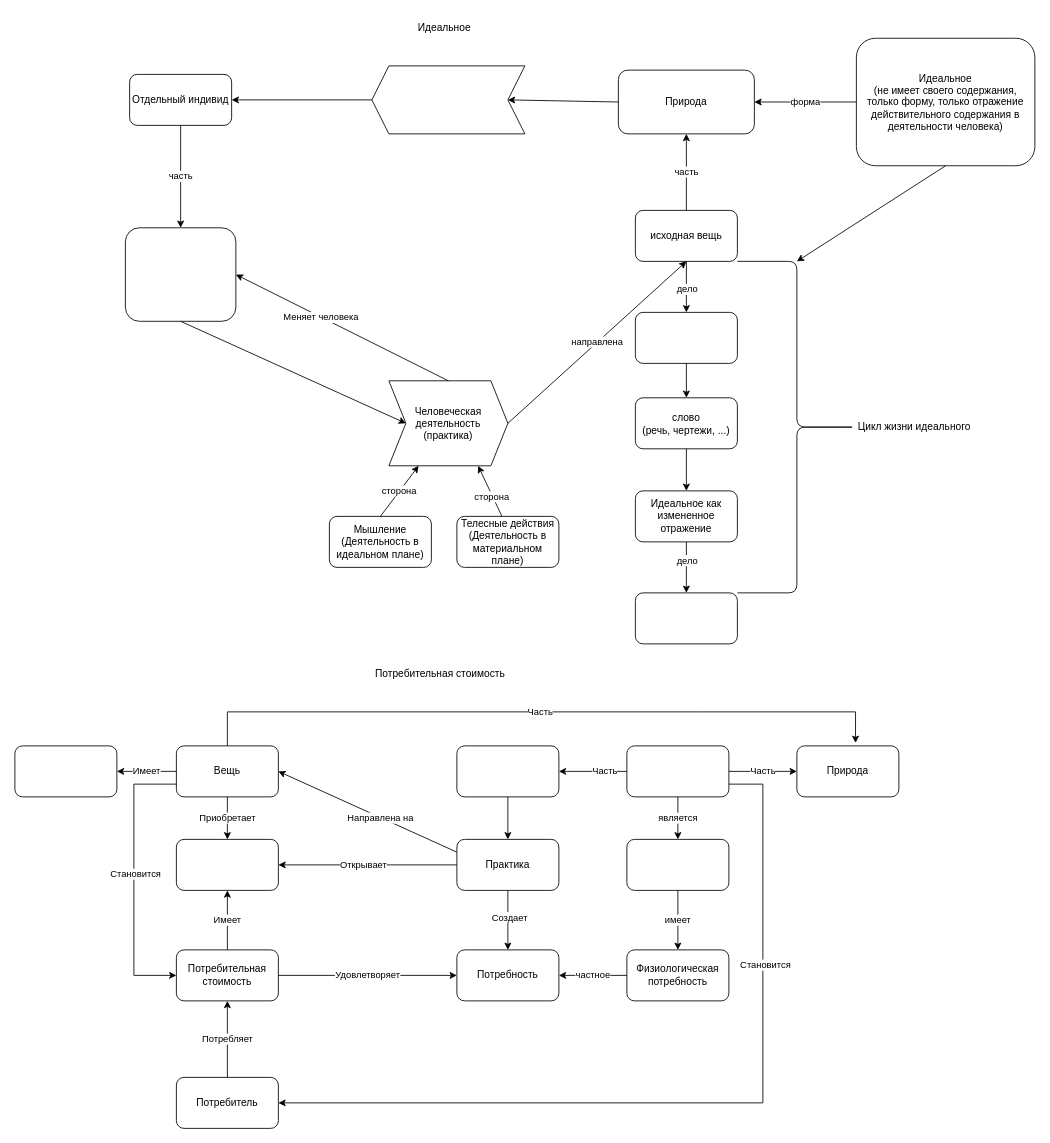
This 1050x1143 diagram has some shape labels left out. The shapes that lost their labels are listed below. From the top down, each one's centre as x and y in pixels, then its label:
At [448,99]: "Эволюция жизни".
At [180,274]: "Человек (общество)".
At [686,337]: "Идеальное как отражение исходной вещи".
At [686,618]: "преобразованная вещь".
At [65,771]: "Свойства содержания (физико-химические)".
At [507,771]: "Общество".
At [677,771]: "Индивид".
At [227,864]: "Свойства формы (при взаимодействии с человеком)".
At [677,864]: "Животное".
